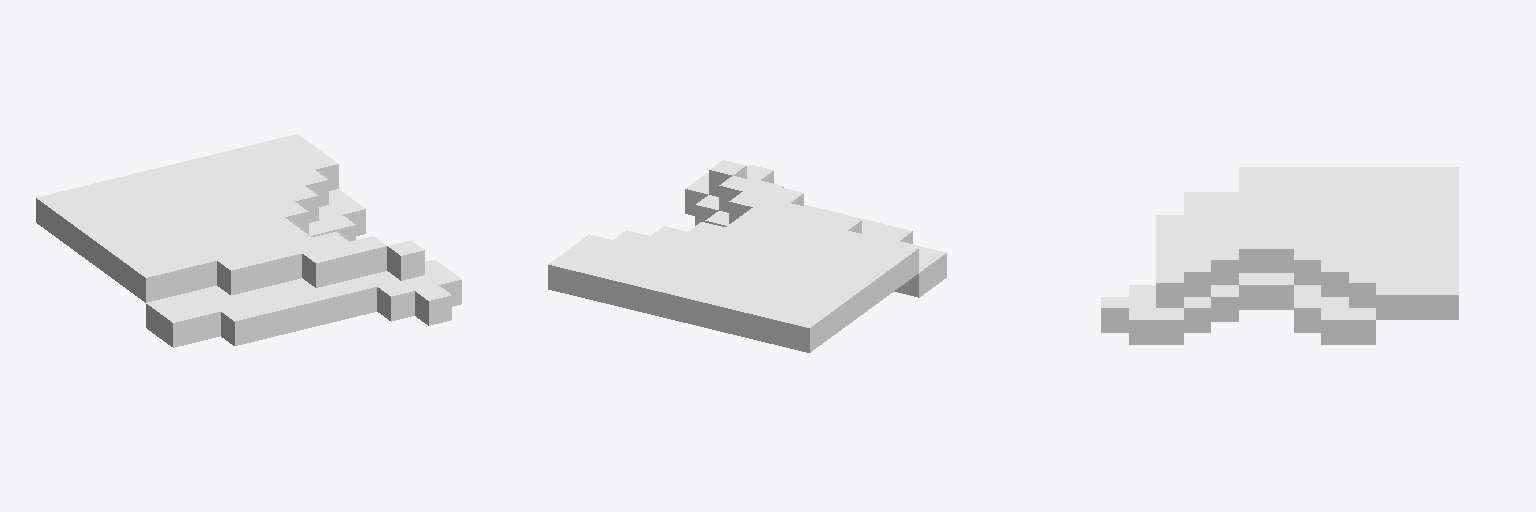
Rendered from stairs_shard-7.obj.
3 views of the same model, side by side, from view 1: azimuth 30°, elevation 25°; view 2: azimuth 150°, elevation 25°; view 3: azimuth 270°, elevation 25° (orthographic).
Parts seen in each view (by area): view 1: object 1; view 2: object 1; view 3: object 1.
Part boxes in pixels (x1,y1,x2,y2): object 1: (36,134,461,347); object 1: (548,160,946,352); object 1: (1101,167,1458,344).
Bounding box in the file's own units: 1.1 × 0.2 × 1.3.